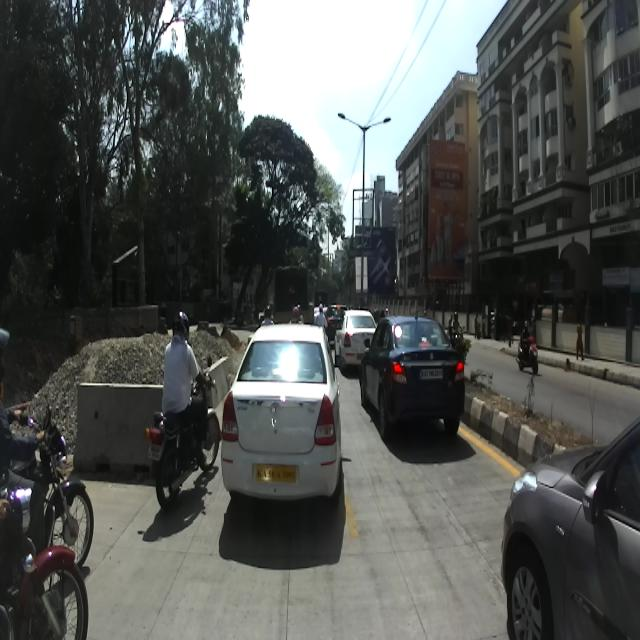car ahead at: (219, 317, 344, 507), (360, 306, 466, 445)
motorcycle ahead at: (138, 400, 220, 519)
